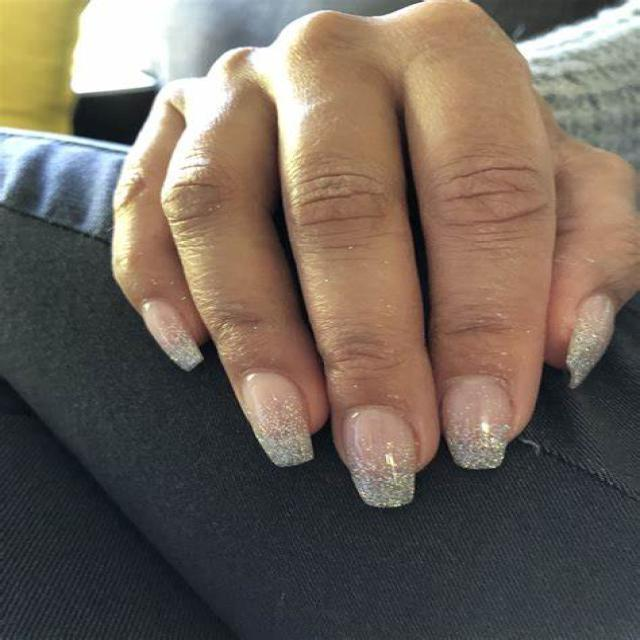Fingernail: (344, 407, 417, 507), (242, 371, 312, 466), (443, 376, 514, 468), (142, 299, 202, 370), (568, 294, 614, 386)
